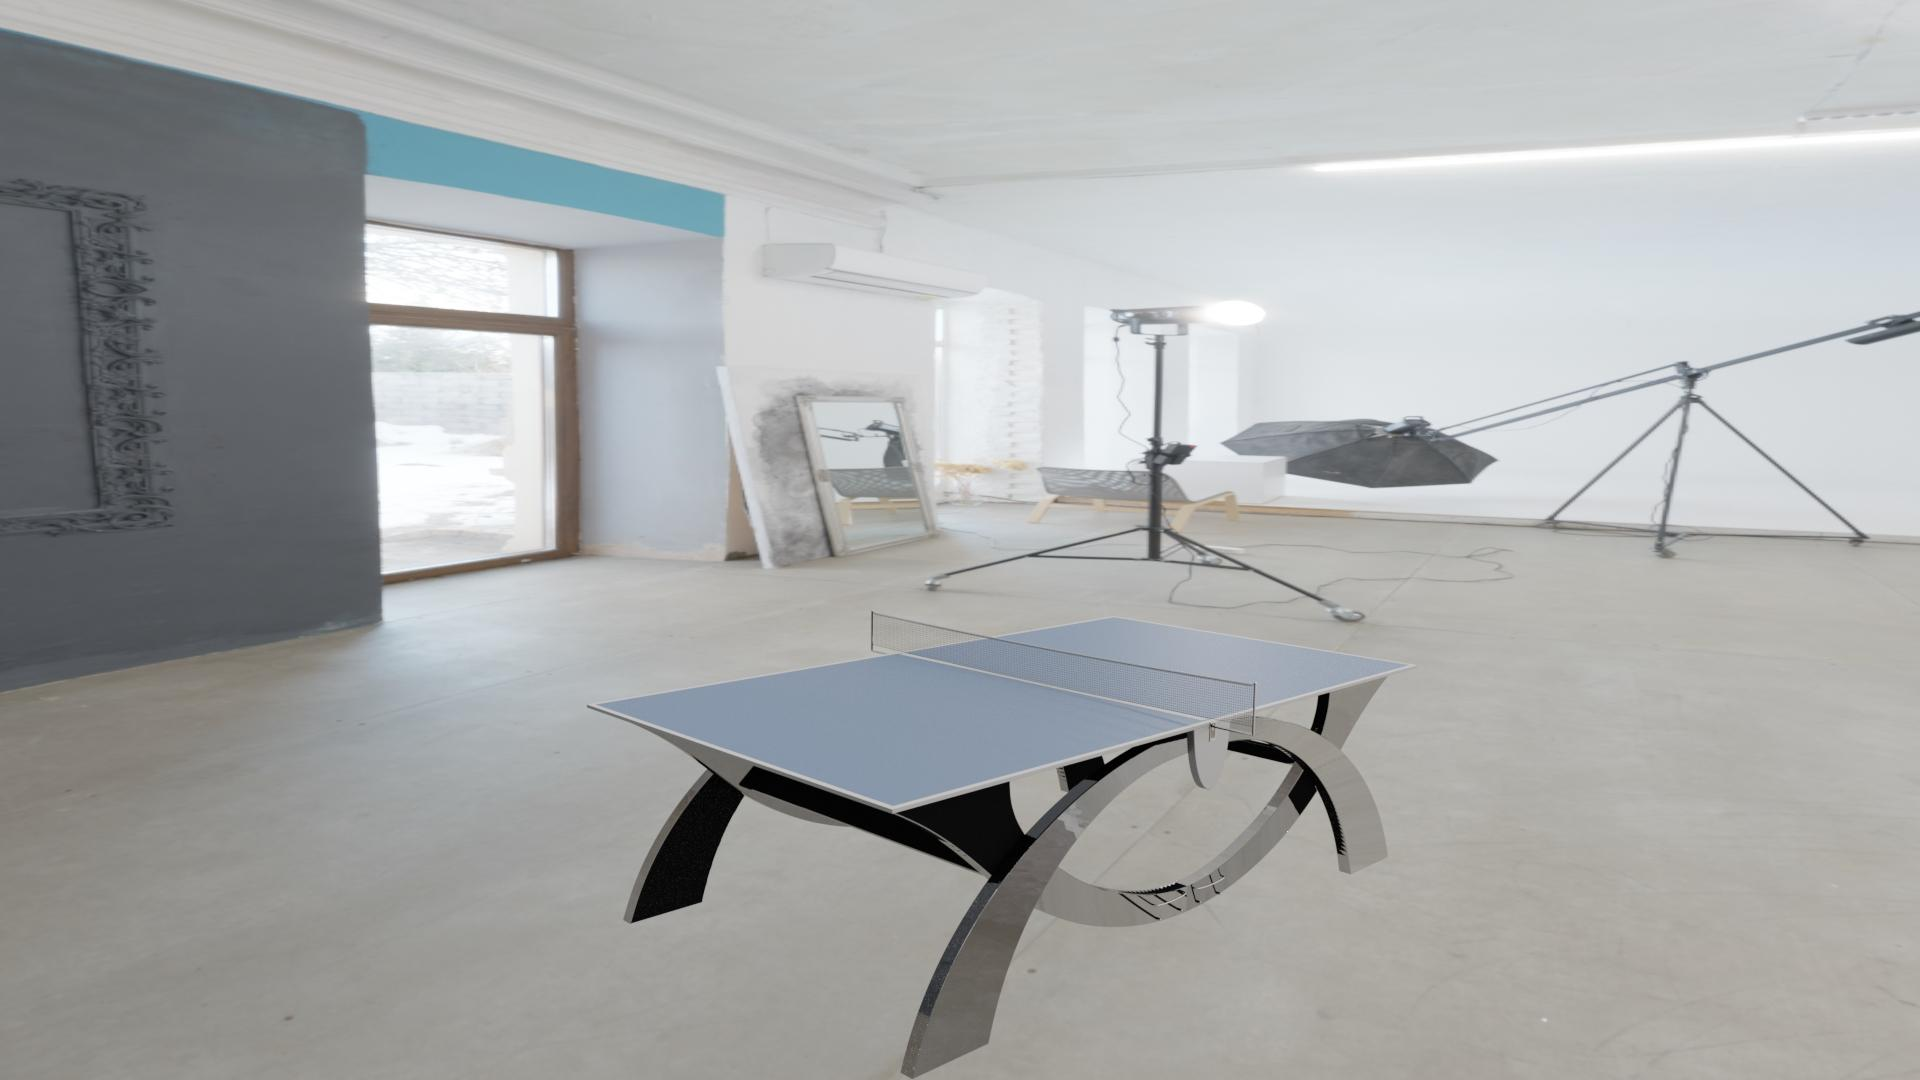table: (595, 617, 1410, 806)
